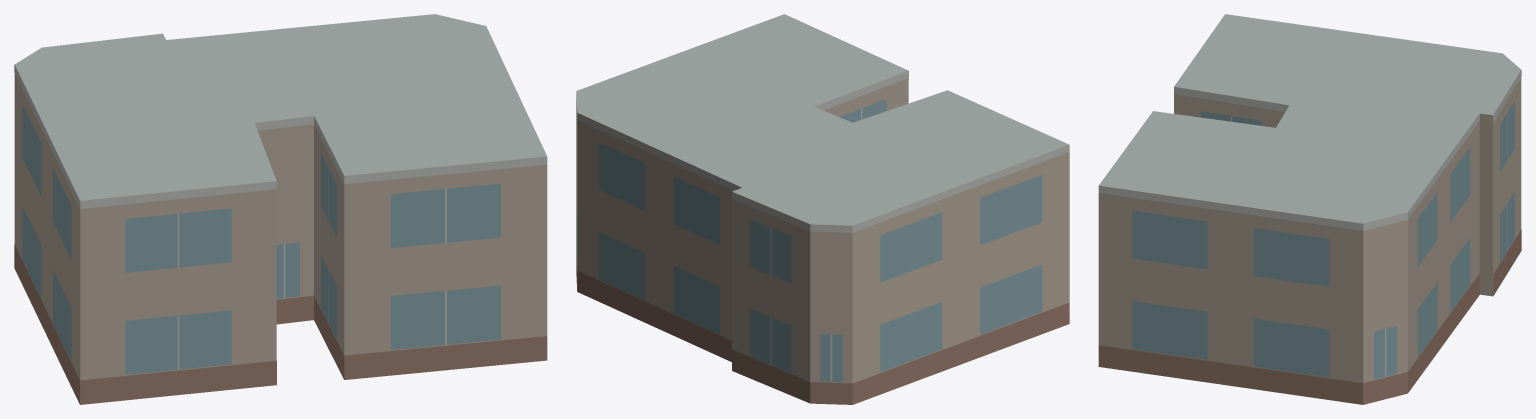
File: survey-upis-32695713.glb
3 views of the same model, side by side, from view 1: azimuth 30°, elevation 25°; view 2: azimuth 150°, elevation 25°; view 3: azimuth 270°, elevation 25° (orthographic). The views are drawn at different scales.
Parts seen in each view (by area): view 1: survey-upis-32695713.tmp; view 2: survey-upis-32695713.tmp; view 3: survey-upis-32695713.tmp.
Boxes of the visible parts, x1,y1,x2,y2 form: survey-upis-32695713.tmp: [14, 14, 547, 404]; survey-upis-32695713.tmp: [576, 14, 1069, 404]; survey-upis-32695713.tmp: [1098, 14, 1521, 404].
Size of the model in its own units: 15.16 by 6.1 by 12.91.
